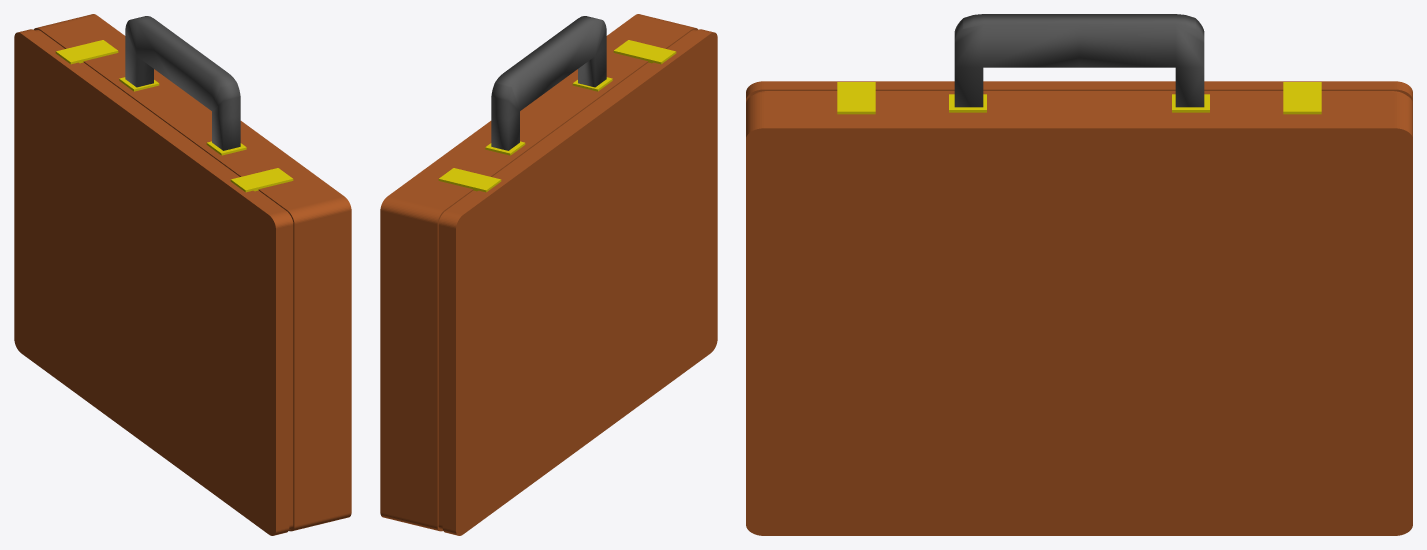
Rendered from Briefcase.fbx.
3 renders of one model, left to right at view 1: azimuth 30°, elevation 25°; view 2: azimuth 150°, elevation 25°; view 3: azimuth 270°, elevation 25°, orthographic. The views are drawn at different scales.
Visible parts, largest first — view 1: Cube; view 2: Cube; view 3: Cube.
Part boxes in pixels (x1,y1,x2,y2): Cube: (14, 14, 351, 535); Cube: (380, 14, 717, 535); Cube: (746, 14, 1412, 535).
Size of the model in its own units: 19.98 by 97.59 by 120.
